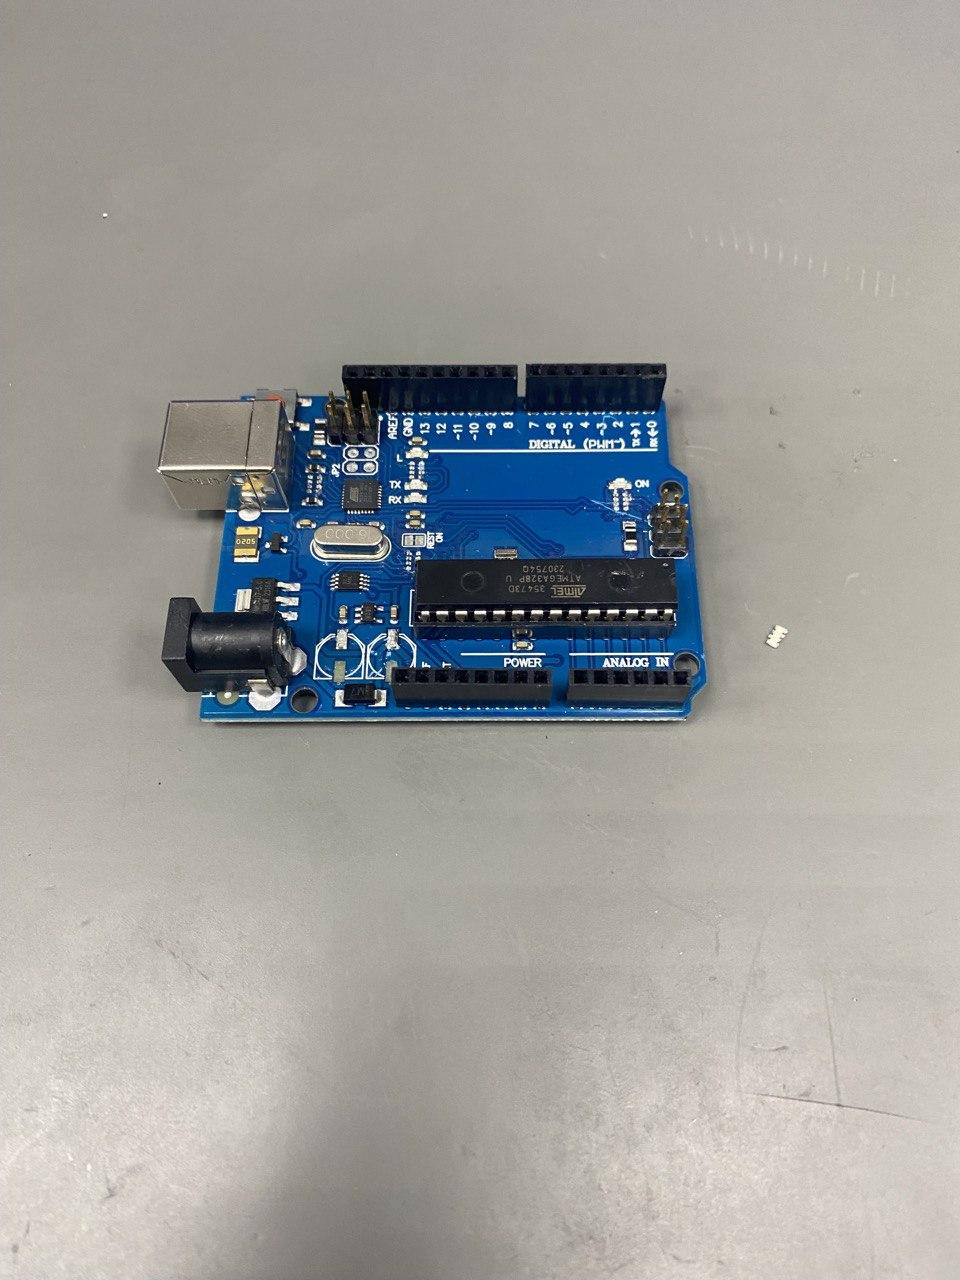ATmega328 chip: (413, 558, 679, 640)
Arduino board: (157, 363, 706, 723)
USB: (158, 400, 295, 512)
pins: (342, 364, 519, 413), (523, 362, 669, 411), (391, 666, 552, 708), (565, 668, 692, 708)
